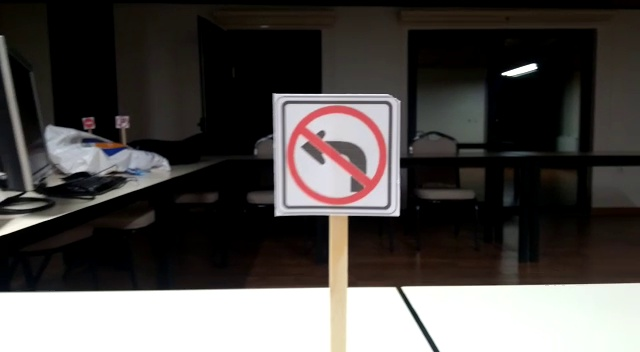sola_donulmez: (282, 97, 394, 210)
